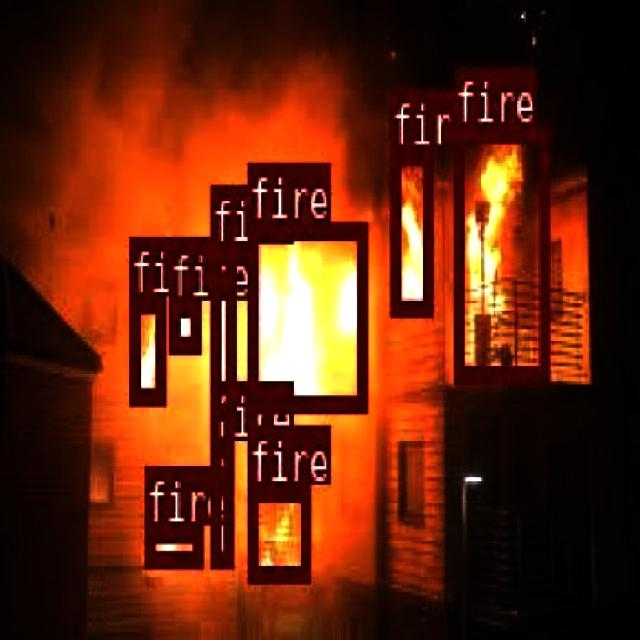fire: (452, 123, 546, 380), (246, 220, 365, 411), (389, 147, 431, 313), (246, 483, 308, 579), (208, 242, 234, 416), (128, 293, 164, 402), (208, 440, 232, 562), (144, 524, 200, 566), (168, 296, 198, 349)
